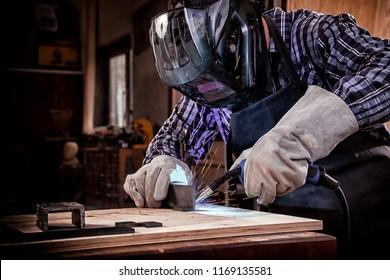gloves: (229, 85, 359, 206), (124, 154, 195, 209)
